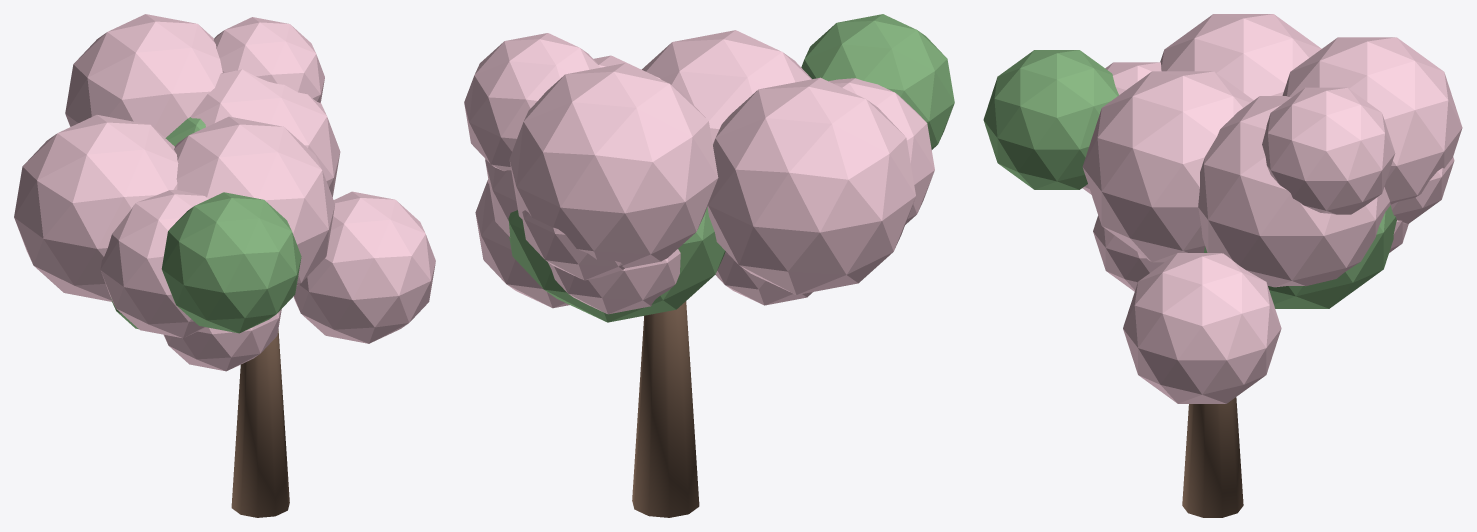
Rendered from cherry_blossom.glb.
3 renders of one model, left to right at view 1: azimuth 30°, elevation 25°; view 2: azimuth 150°, elevation 25°; view 3: azimuth 270°, elevation 25°, orthographic. The views are drawn at different scales.
Parts seen in each view (by area): view 1: Blossoms_12, Blossoms_2, Blossoms_3, Blossoms_4, Blossoms_9, Blossoms_8, Trunk, Blossoms_10, Blossoms_1, Blossoms_7, Blossoms_6; view 2: Blossoms_12, Blossoms_4, Trunk, Blossoms_2, Blossoms_1, Blossoms_9, Blossoms_6, Blossoms_0, Blossoms_8, Blossoms_3, Blossoms_5, Blossoms_7 (+1 smaller); view 3: Blossoms_9, Blossoms_3, Blossoms_10, Blossoms_4, Blossoms_2, Blossoms_1, Blossoms_12, Trunk, Blossoms_6, Blossoms_7, Blossoms_5, Blossoms_8.
Boxes of the visible parts, left/top/right/bottom form: Blossoms_12: left=14, top=115, right=178, bottom=301; Blossoms_2: left=161, top=192, right=301, bottom=333; Blossoms_3: left=293, top=191, right=435, bottom=343; Blossoms_4: left=65, top=14, right=222, bottom=137; Blossoms_9: left=174, top=116, right=334, bottom=285; Blossoms_8: left=100, top=190, right=208, bottom=338; Trunk: left=231, top=329, right=289, bottom=517; Blossoms_10: left=190, top=69, right=340, bottom=197; Blossoms_1: left=213, top=17, right=324, bottom=102; Blossoms_7: left=163, top=309, right=281, bottom=371; Blossoms_6: left=165, top=117, right=205, bottom=146; Blossoms_12: left=707, top=77, right=915, bottom=294; Blossoms_4: left=509, top=63, right=718, bottom=268; Trunk: left=632, top=301, right=699, bottom=517; Blossoms_2: left=801, top=14, right=954, bottom=149; Blossoms_1: left=464, top=33, right=600, bottom=171; Blossoms_9: left=642, top=30, right=811, bottom=144; Blossoms_6: left=508, top=207, right=725, bottom=322; Blossoms_0: left=548, top=249, right=680, bottom=314; Blossoms_8: left=829, top=78, right=934, bottom=224; Blossoms_3: left=475, top=179, right=569, bottom=308; Blossoms_5: left=522, top=210, right=624, bottom=280; Blossoms_7: left=715, top=251, right=812, bottom=305; Blossoms_9: left=1082, top=71, right=1253, bottom=262; Blossoms_3: left=1123, top=253, right=1281, bottom=403; Blossoms_10: left=1198, top=96, right=1390, bottom=287; Blossoms_4: left=1282, top=37, right=1462, bottom=204; Blossoms_2: left=983, top=50, right=1118, bottom=189; Blossoms_1: left=1262, top=87, right=1395, bottom=214; Blossoms_12: left=1160, top=14, right=1321, bottom=99; Trunk: left=1182, top=397, right=1243, bottom=517; Blossoms_6: left=1204, top=205, right=1396, bottom=308; Blossoms_7: left=1093, top=215, right=1164, bottom=291; Blossoms_5: left=1391, top=157, right=1454, bottom=223; Blossoms_8: left=1082, top=62, right=1161, bottom=194.
Size of what is drawn, in the model's own units: 7.26 by 8.07 by 7.8.
